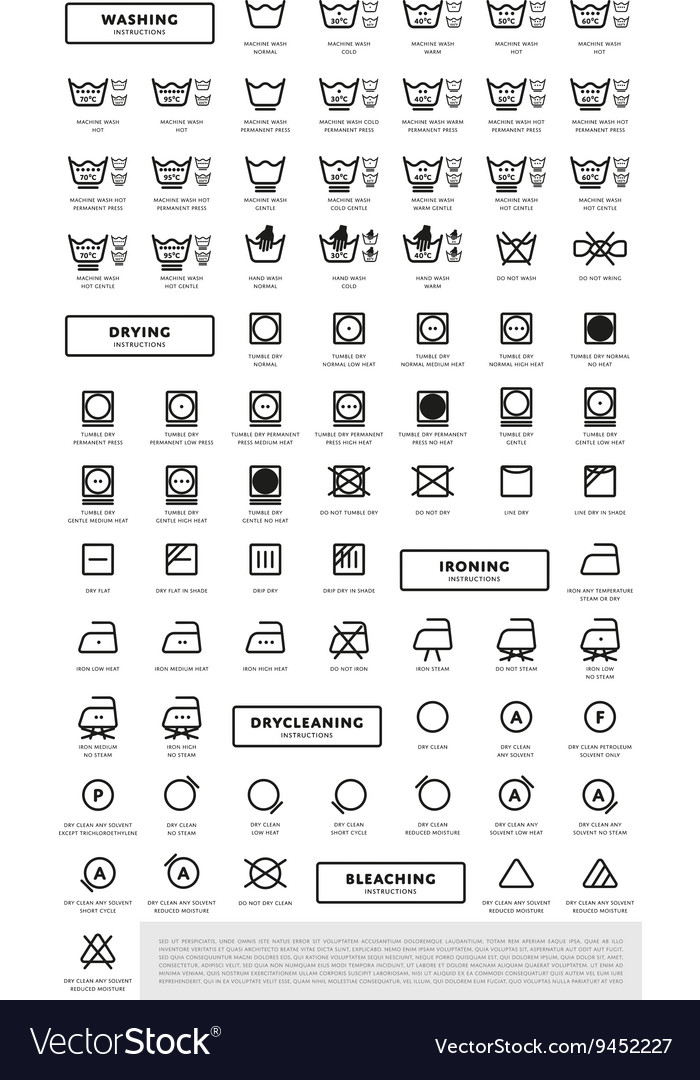do_not_dry_clean: (236, 854, 297, 897)
do_not_iron: (324, 618, 375, 663)
do_not_wash: (490, 228, 543, 268)
